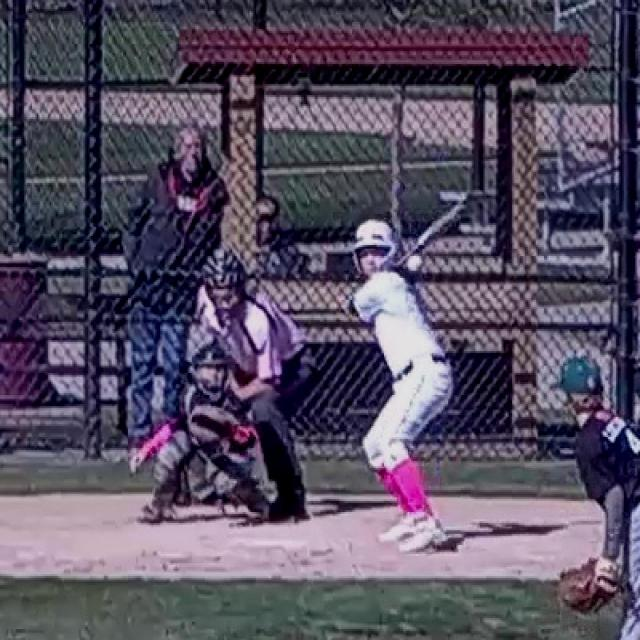baseball: (408, 255, 422, 271)
